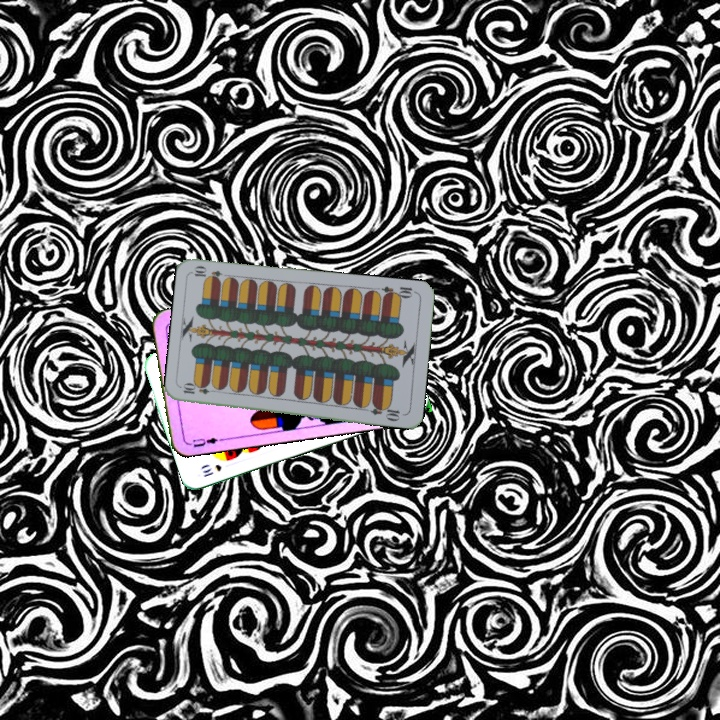E10: (378, 282, 419, 302), (179, 382, 220, 397)
EU: (184, 433, 224, 450)
S10: (198, 460, 224, 480)
